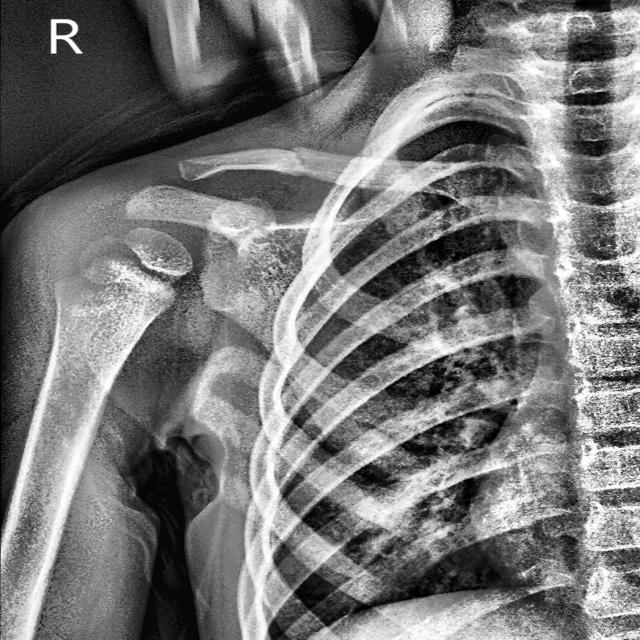Fracture: (268, 137, 333, 184)
